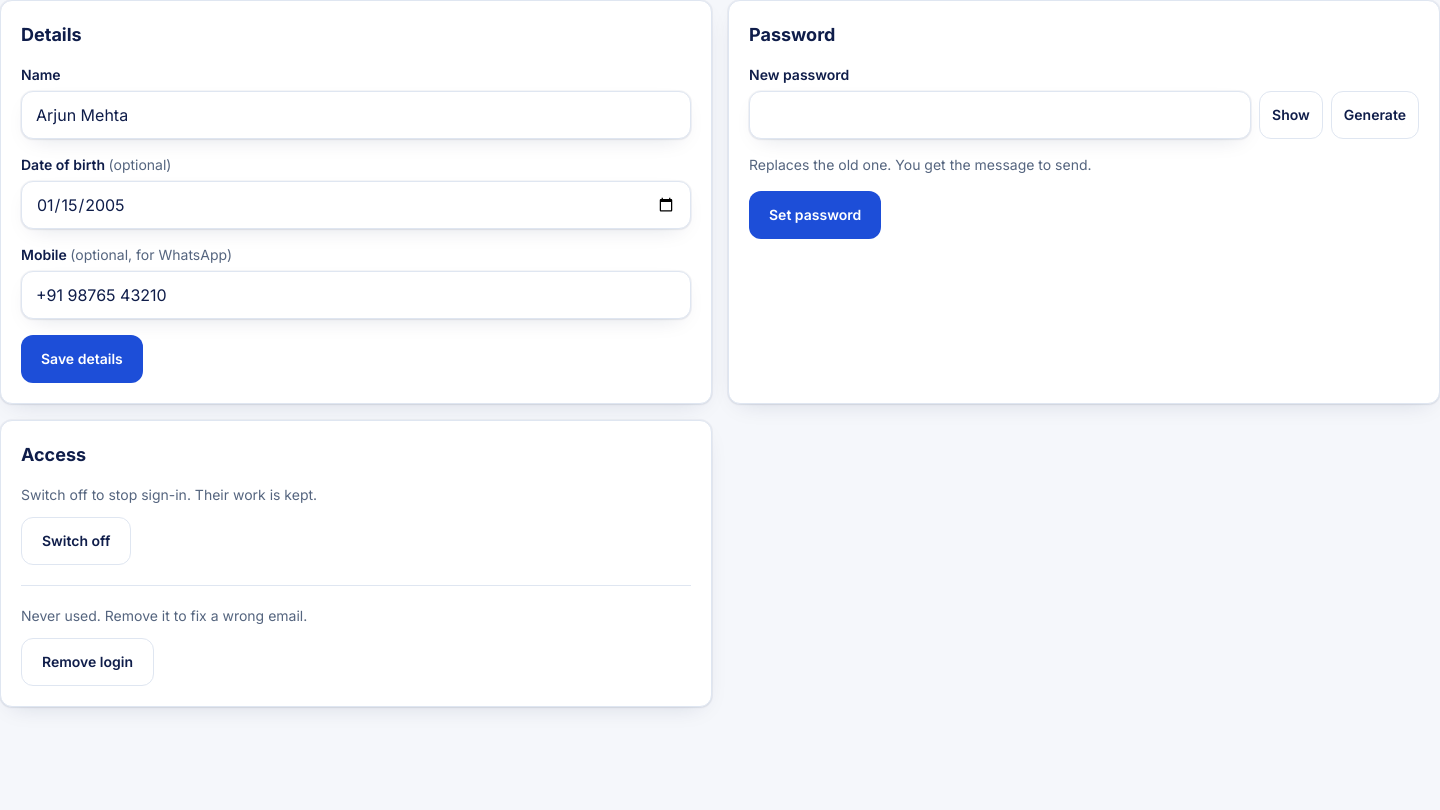
Test: PersonManage › announces a refusal
The image size is (1440, 810).
Click the button "Save details": (82, 359) [21,335,143,383]
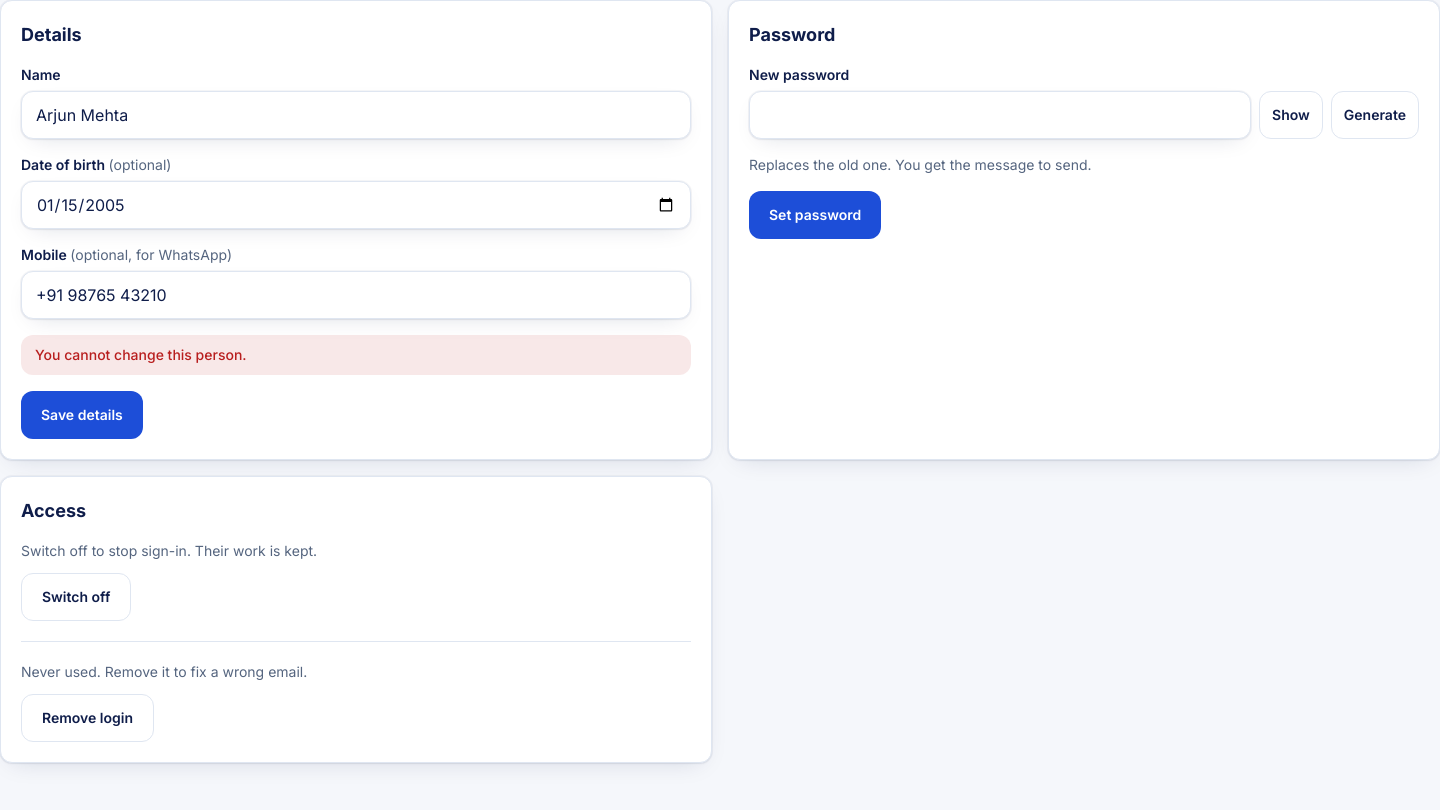
Result: the message shows "cannot change" at [35,346,247,363]
